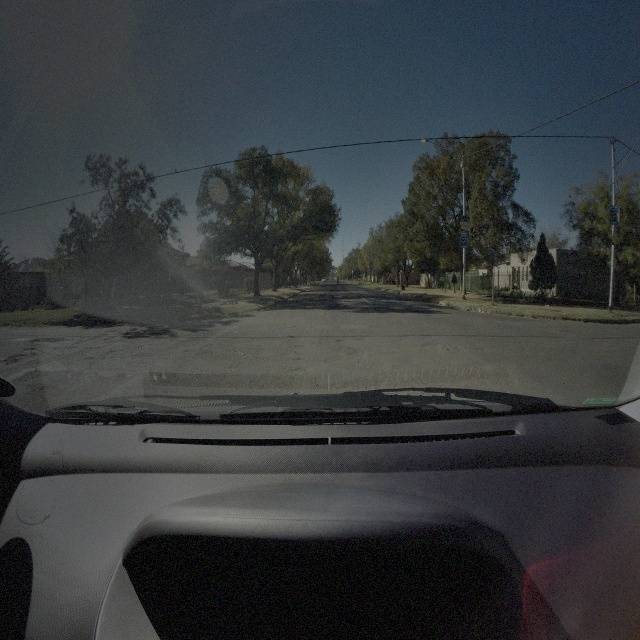pothole: (32, 336, 66, 344), (3, 354, 24, 366), (25, 346, 36, 352)
